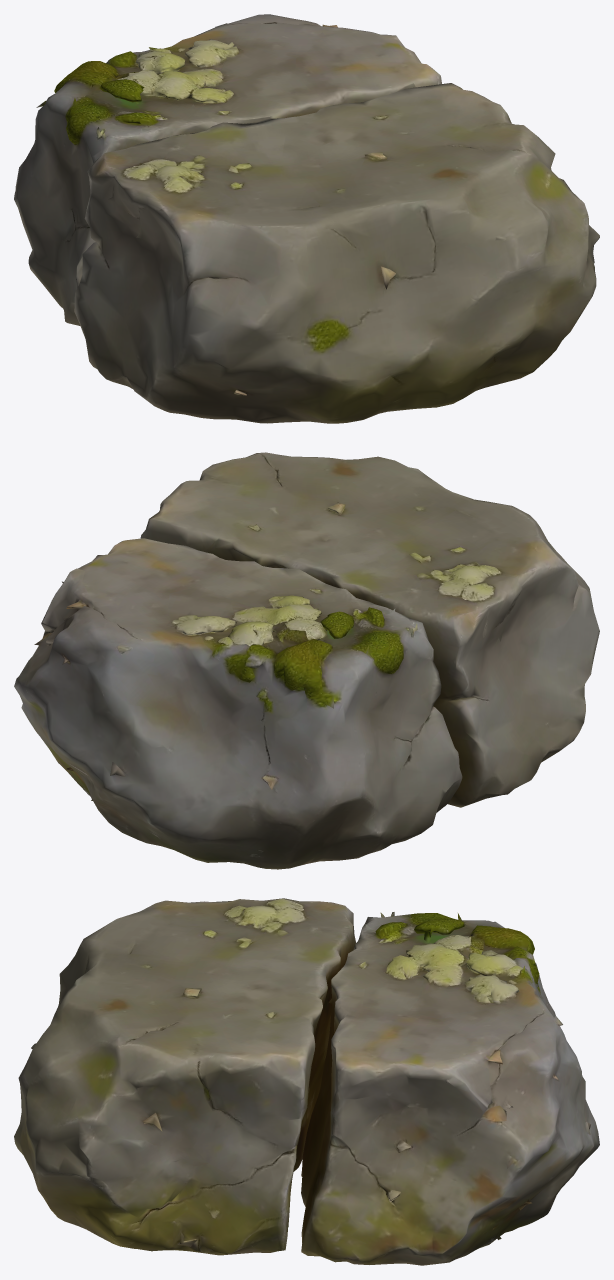
Rendered from rock_2.glb.
3 renders of one model, top to bottom at view 1: azimuth 30°, elevation 25°; view 2: azimuth 150°, elevation 25°; view 3: azimuth 270°, elevation 25°, orthographic. The views are drawn at different scales.
Parts seen in each view (by area): view 1: tripo_node_c281777b-b2ef-41f7-b656-f5ac8afc8d5e; view 2: tripo_node_c281777b-b2ef-41f7-b656-f5ac8afc8d5e; view 3: tripo_node_c281777b-b2ef-41f7-b656-f5ac8afc8d5e.
Part boxes in pixels (x1=…): tripo_node_c281777b-b2ef-41f7-b656-f5ac8afc8d5e: x1=14, y1=14, x2=599, y2=423; tripo_node_c281777b-b2ef-41f7-b656-f5ac8afc8d5e: x1=14, y1=452, x2=599, y2=869; tripo_node_c281777b-b2ef-41f7-b656-f5ac8afc8d5e: x1=14, y1=898, x2=599, y2=1265.
Size of the model in its own units: 3.6 by 1.9 by 4.54.
1 material, 1 textured.
